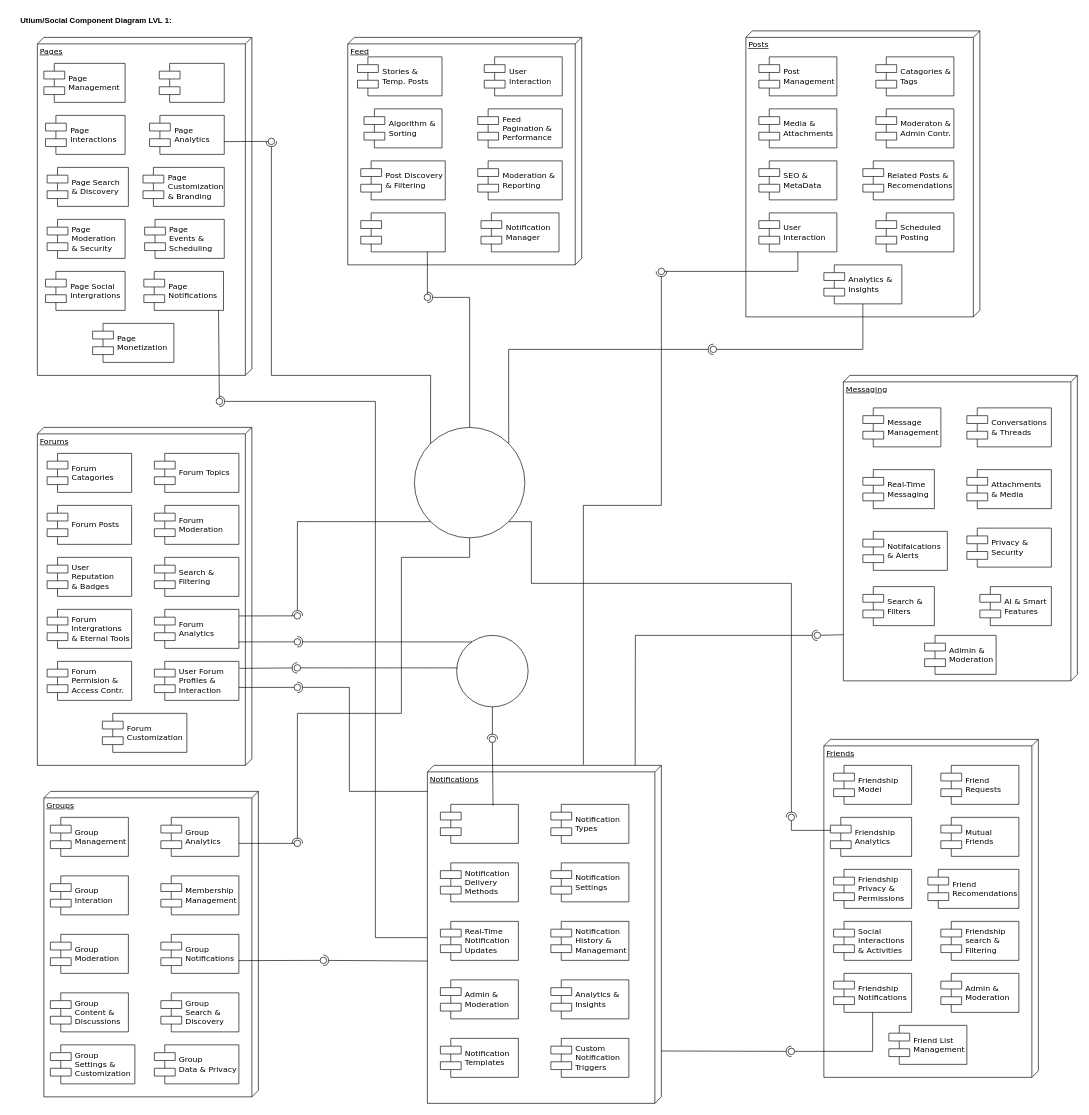
This 1089x1115 diagram has some shape labels left out. The shapes that lost their labels are listed below. From the top down, each one's centre as x and y in pixels, then its label:
At pixel 191 82: "Page Content".
At pixel 402 232: "Admin & Analytics".
At pixel 469 482: "Management/ Repots (LVL 1)".
At pixel 492 671: "Members/ Account/ Communication".
At pixel 479 823: "Notification Model".
